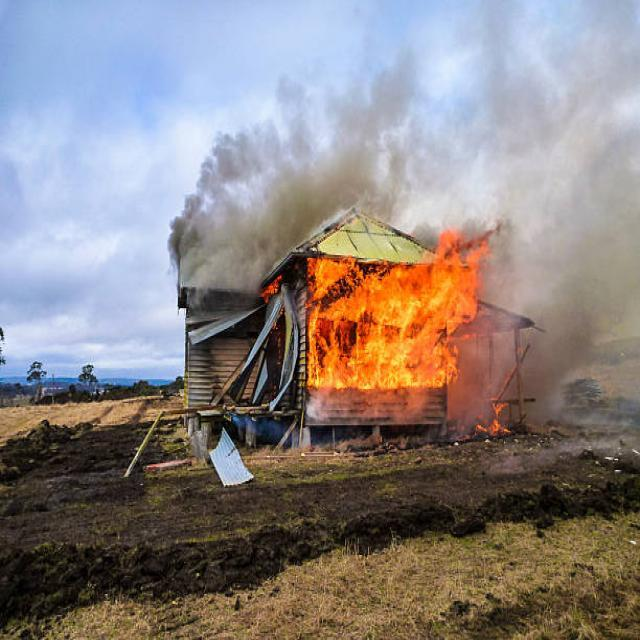Fire: (314, 251, 482, 403)
Smoke: (355, 30, 640, 408), (174, 106, 342, 275)
